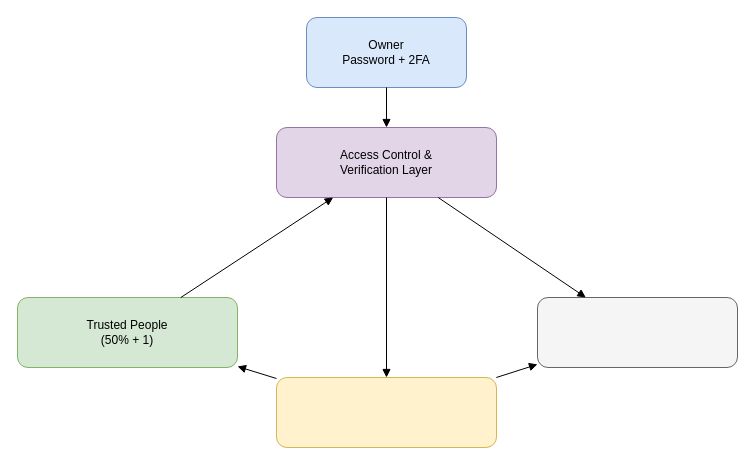
Image size: 755x465. Some labels were removed from this diagram. The shapes that lost their labels are listed below. From the top down, each one's centre as x and y in pixels, then its label:
the point at 637,332: Vault Storage (Encrypted)
the point at 386,412: Key Management Module
